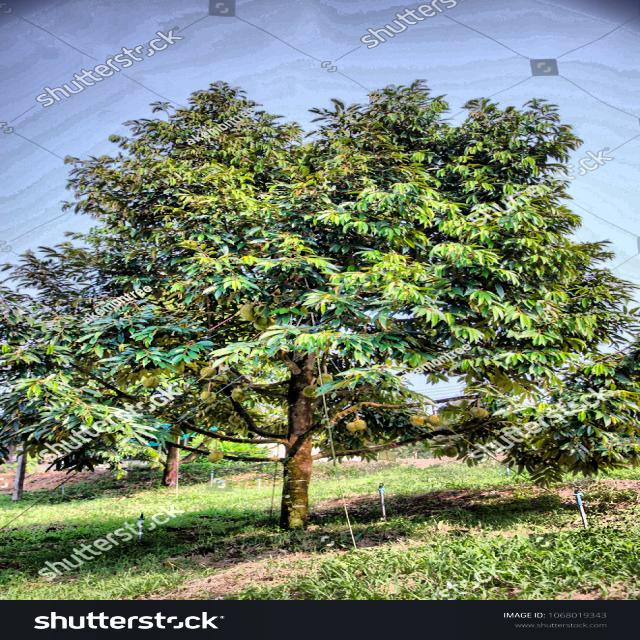arvore: (266, 296, 338, 545), (0, 392, 55, 506), (154, 383, 197, 491)
